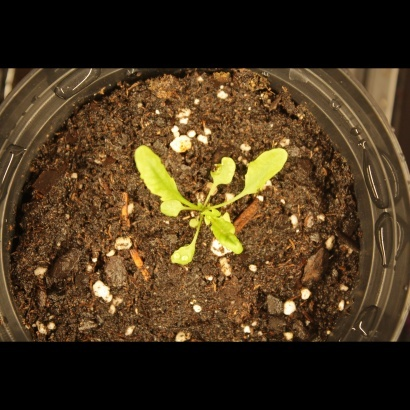leaf: (131, 142, 187, 206), (242, 146, 290, 198), (209, 214, 249, 259), (168, 238, 203, 272), (209, 150, 237, 190), (157, 197, 183, 220)
